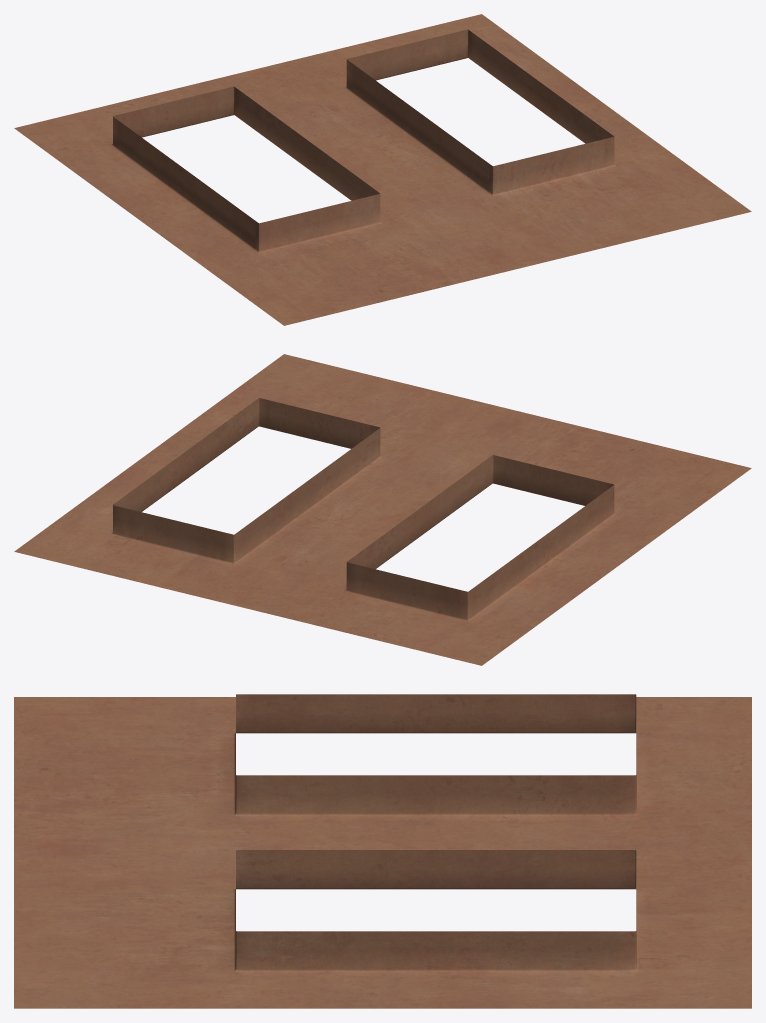
Rendered from wall_window_centered_double_03.gltf.
The picture shows the model from 3 angles, top to bottom: view 1: azimuth 30°, elevation 25°; view 2: azimuth 150°, elevation 25°; view 3: azimuth 270°, elevation 25°; orthographic projection. The views are drawn at different scales.
Parts seen in each view (by area): view 1: wall_window_centered_double_03; view 2: wall_window_centered_double_03; view 3: wall_window_centered_double_03.
Boxes of the visible parts, left/top/right/bottom form: wall_window_centered_double_03: left=14, top=14, right=751, bottom=325; wall_window_centered_double_03: left=14, top=354, right=751, bottom=665; wall_window_centered_double_03: left=14, top=694, right=751, bottom=1008.
Bounding box in the file's own units: 3 × 0.18 × 3.
Materials: 1 (1 with a texture image).
